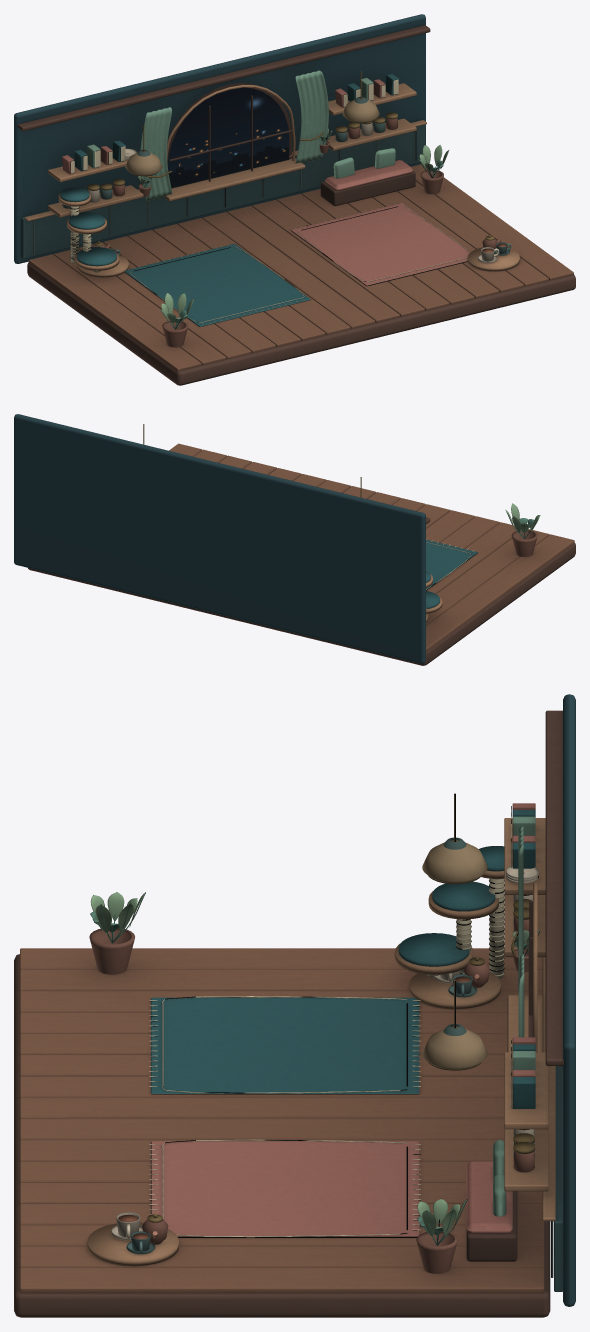
The model's file is cafe.glb.
The picture shows the model from 3 angles, top to bottom: view 1: azimuth 30°, elevation 25°; view 2: azimuth 150°, elevation 25°; view 3: azimuth 270°, elevation 25°; orthographic projection. The views are drawn at different scales.
Visible parts, largest first — view 1: atelier-cafe-static, night-glass; view 2: atelier-cafe-static; view 3: atelier-cafe-static.
Part boxes in pixels (box(x1,y1,x2,y2)): atelier-cafe-static: box(14, 14, 575, 385); night-glass: box(167, 87, 289, 188); atelier-cafe-static: box(14, 414, 575, 665); atelier-cafe-static: box(14, 694, 575, 1317).
Bounding box in the file's own units: 14 × 5.2 × 9.43.
Materials: 3 (2 with a texture image).
